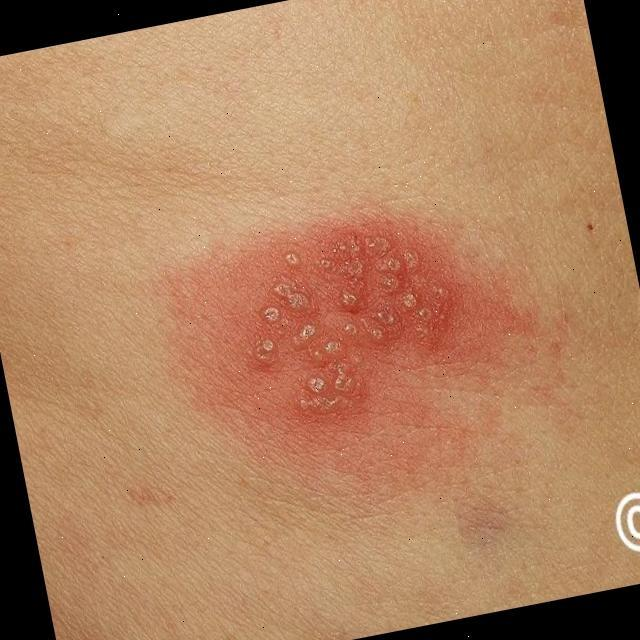Shingles: (243, 233, 451, 411)
